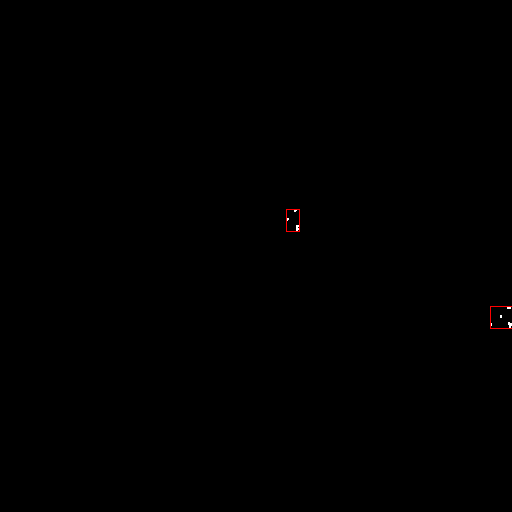Target: (492, 305, 512, 328), (276, 209, 296, 228)
